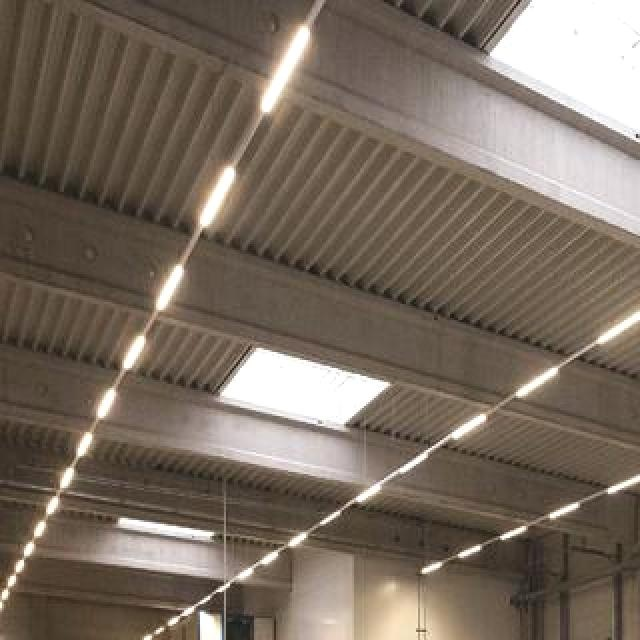fluorescent tube: (246, 18, 326, 131), (181, 160, 243, 240), (151, 255, 191, 325), (592, 298, 640, 350), (512, 362, 561, 404), (449, 404, 491, 446), (124, 333, 160, 375), (85, 384, 122, 424), (386, 449, 435, 479), (71, 422, 93, 469), (352, 480, 391, 505), (604, 472, 640, 498), (544, 497, 581, 521), (497, 524, 535, 543), (314, 507, 344, 527), (255, 547, 282, 569), (456, 543, 484, 562), (287, 529, 311, 551), (415, 561, 445, 578), (6, 554, 30, 574), (57, 460, 71, 492), (31, 517, 49, 540), (47, 491, 61, 519), (237, 565, 256, 585), (184, 601, 197, 625), (3, 571, 21, 587), (214, 583, 234, 596), (22, 540, 36, 558), (198, 595, 219, 607), (166, 615, 182, 630)
